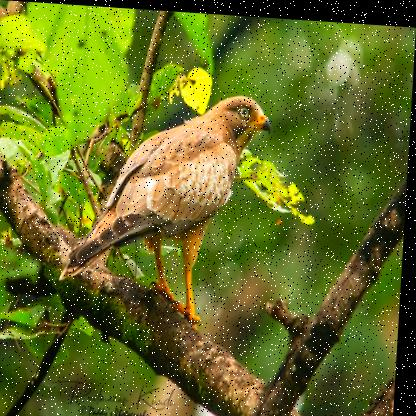Burung: (61, 84, 277, 315)
